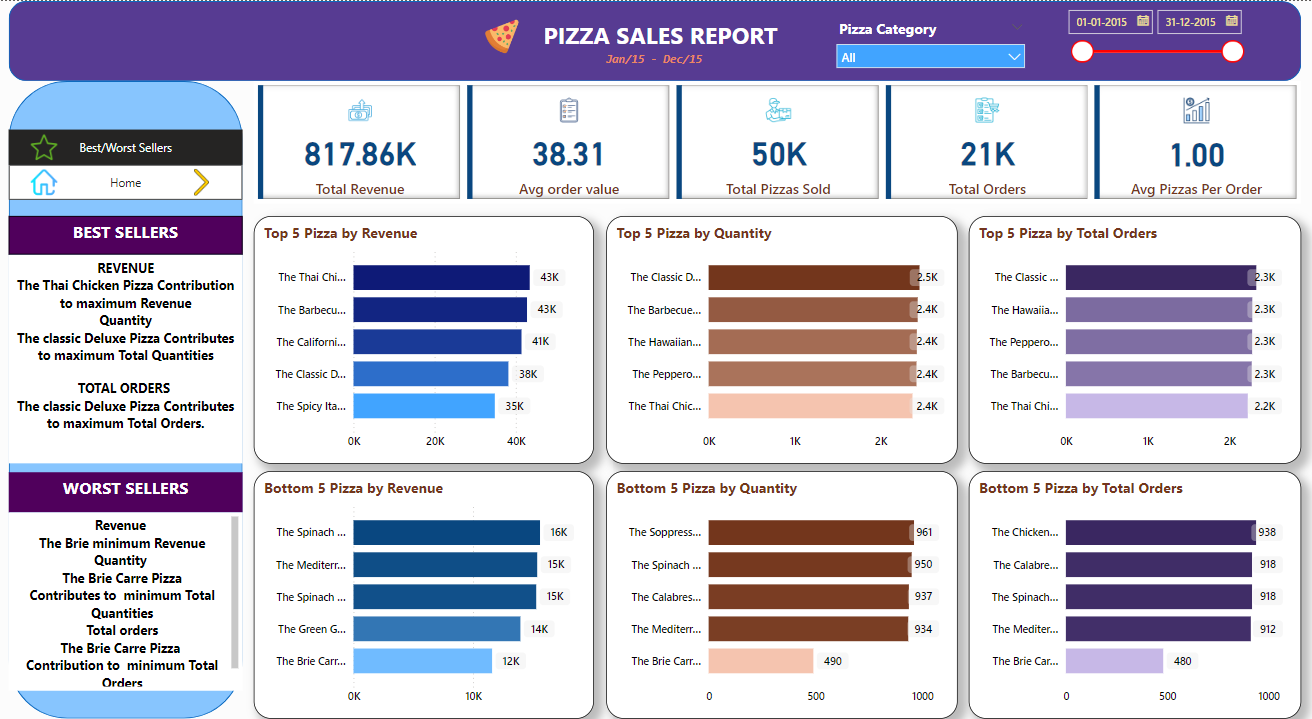

What the dashboard file says about the page in this screenshot:
{"tool":"powerbi","page":{"name":"Best/Worst Sellers","canvas":[1500,820],"ordinal":1},"visuals":[{"type":"cardVisual","fields":{"Data":["pizza_sales.Total Revenue","pizza_sales.Avg order value","pizza_sales.Total Pizzas Sold","pizza_sales.Total Orders","pizza_sales.Avg Pizzas Per Order"]},"box":[290,91.4,1197.1,140],"z":0},{"type":"shape","box":[10,0,1477.1,91.4],"z":1000},{"type":"textbox","box":[607.1,15.7,295.7,64.3],"z":2000},{"type":"textbox","box":[648.6,51.4,197.1,40],"z":3000},{"type":"image","box":[540,15.7,67.1,50],"z":4000},{"type":"barChart","title":"Top 5 Pizza by Revenue","fields":{"Category":["pizza_sales.pizza_name"],"Y":["pizza_sales.Total Revenue"]},"box":[290,245.7,388.6,282.9],"z":5000},{"type":"shape","box":[10,91.4,267.1,728.6],"z":6000},{"type":"textbox","box":[10,245.7,267.1,44.3],"z":7000},{"type":"textbox","box":[10,290,267.1,238.6],"z":8000},{"type":"textbox","box":[10,584.3,267.1,204.3],"z":9000},{"type":"textbox","box":[10,538.6,267.1,45.7],"z":10000},{"type":"barChart","title":"Bottom 5 Pizza by Revenue","fields":{"Category":["pizza_sales.pizza_name"],"Y":["pizza_sales.Total Revenue"]},"box":[290,537.1,388.6,282.9],"z":11000},{"type":"barChart","title":"Top 5 Pizza by Quantity","fields":{"Category":["pizza_sales.pizza_name"],"Y":["pizza_sales.Total Pizzas Sold"]},"box":[692.9,245.7,401.4,282.9],"z":12000},{"type":"barChart","title":"Bottom 5 Pizza by Quantity","fields":{"Category":["pizza_sales.pizza_name"],"Y":["pizza_sales.Total Pizzas Sold"]},"box":[692.9,537.1,401.4,282.9],"z":13000},{"type":"barChart","title":"Top 5 Pizza by Total Orders","fields":{"Category":["pizza_sales.pizza_name"],"Y":["pizza_sales.Total Orders"]},"box":[1107.1,245.7,380,282.9],"z":14000},{"type":"barChart","title":"Bottom 5 Pizza by Total Orders","fields":{"Category":["pizza_sales.pizza_name"],"Y":["pizza_sales.Total Orders"]},"box":[1107.1,537.1,380,282.9],"z":15000},{"type":"slicer","fields":{"Values":["pizza_sales.pizza_category"]},"box":[945.7,15.7,235.7,91.4],"z":16000},{"type":"slicer","fields":{"Values":["pizza_sales.order_date"]},"box":[1208.6,0,221.4,91.4],"z":17000},{"type":"pageNavigator","box":[10,187.1,267.1,40],"z":18000},{"type":"pageNavigator","box":[10,147.1,267.1,40],"z":19000},{"type":"image","box":[27.1,187.1,45.7,40],"z":19001},{"type":"image","box":[27.1,147.1,47.1,40],"z":19002},{"type":"image","box":[208.6,187.1,42.9,40],"z":19003}]}

Visuals, with their boxes in screenshot pixels (x1, y1, x2, y2), scaled from the page's 1500x820 canvas onto the 1312x719 screenshot:
cardVisual - pizza_sales.Total Revenue x pizza_sales.Avg order value: crop(254, 80, 1301, 203)
shape: crop(9, 0, 1301, 80)
textbox: crop(531, 14, 790, 70)
textbox: crop(567, 45, 740, 80)
image: crop(472, 14, 531, 58)
"Top 5 Pizza by Revenue" barChart: crop(254, 215, 594, 463)
shape: crop(9, 80, 242, 718)
textbox: crop(9, 215, 242, 254)
textbox: crop(9, 254, 242, 463)
textbox: crop(9, 512, 242, 691)
textbox: crop(9, 472, 242, 512)
"Bottom 5 Pizza by Revenue" barChart: crop(254, 471, 594, 718)
"Top 5 Pizza by Quantity" barChart: crop(606, 215, 957, 463)
"Bottom 5 Pizza by Quantity" barChart: crop(606, 471, 957, 718)
"Top 5 Pizza by Total Orders" barChart: crop(968, 215, 1301, 463)
"Bottom 5 Pizza by Total Orders" barChart: crop(968, 471, 1301, 718)
slicer - pizza_sales.pizza_category: crop(827, 14, 1033, 94)
slicer - pizza_sales.order_date: crop(1057, 0, 1251, 80)
pageNavigator: crop(9, 164, 242, 199)
pageNavigator: crop(9, 129, 242, 164)
image: crop(24, 164, 64, 199)
image: crop(24, 129, 65, 164)
image: crop(182, 164, 220, 199)
